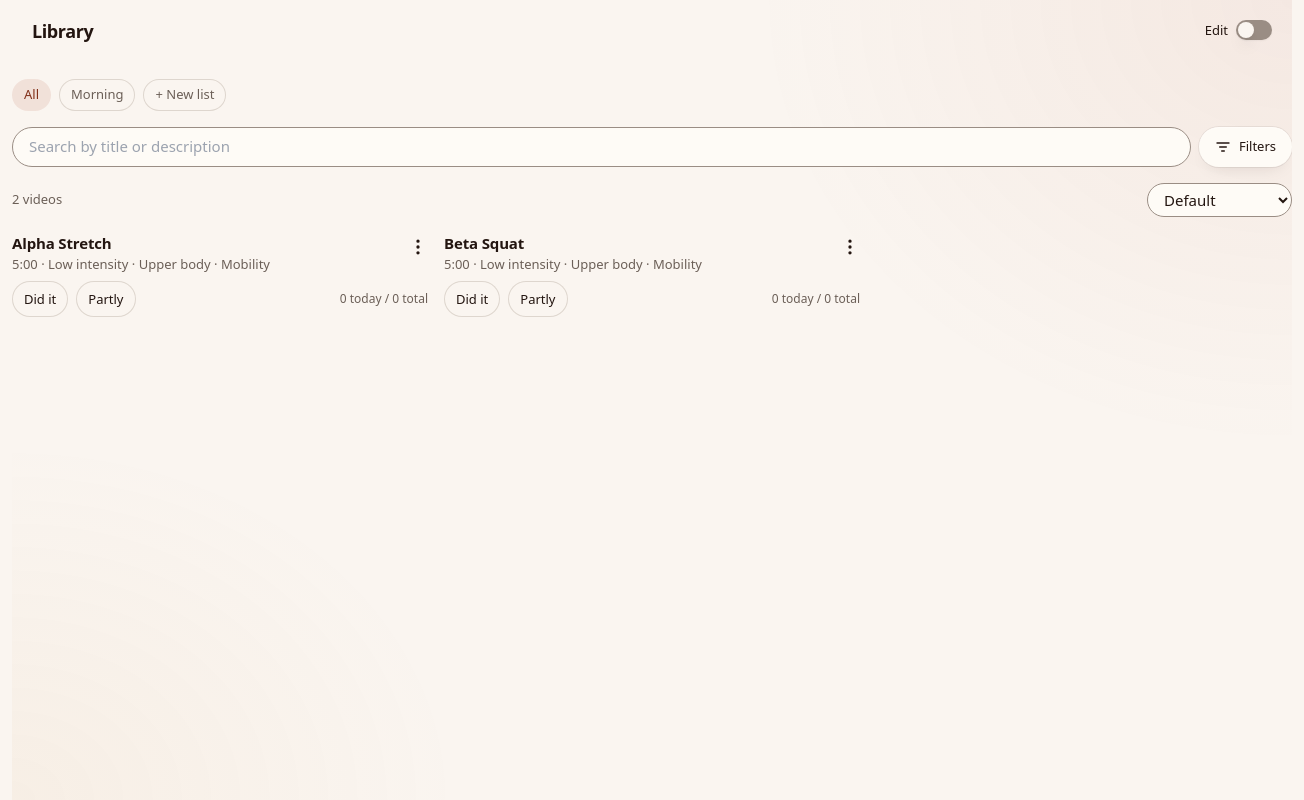
Test case: All cards offer no remove item
The width and height of the screenshot is (1304, 800).
Click the button named "Add Alpha Stretch to a list" at (418, 246), box [400,228,436,264]
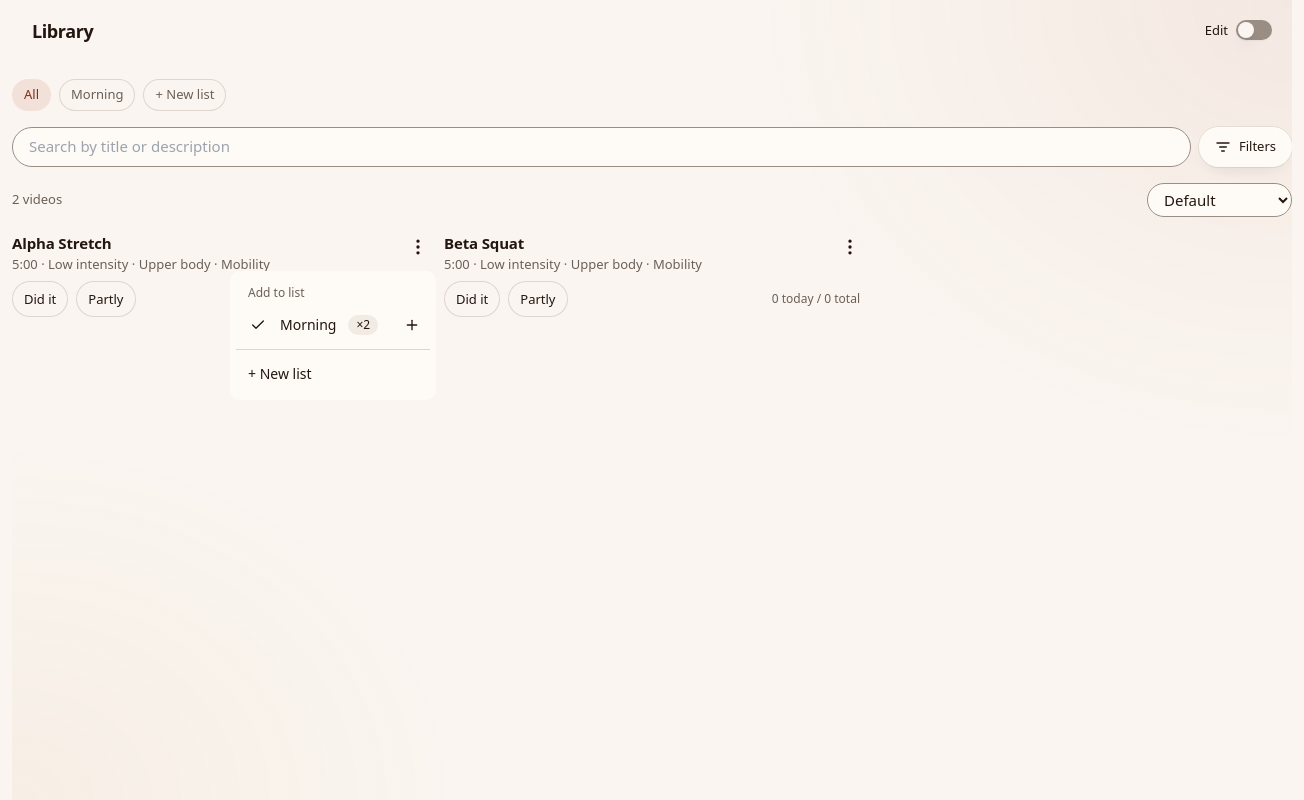
Expected: the menu is shown, [230,271,436,400]
